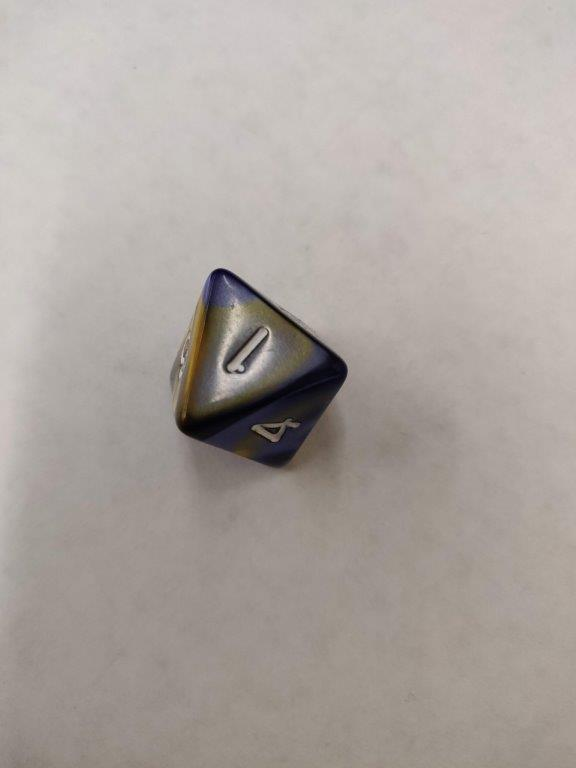d8-1: (165, 269, 349, 473)
